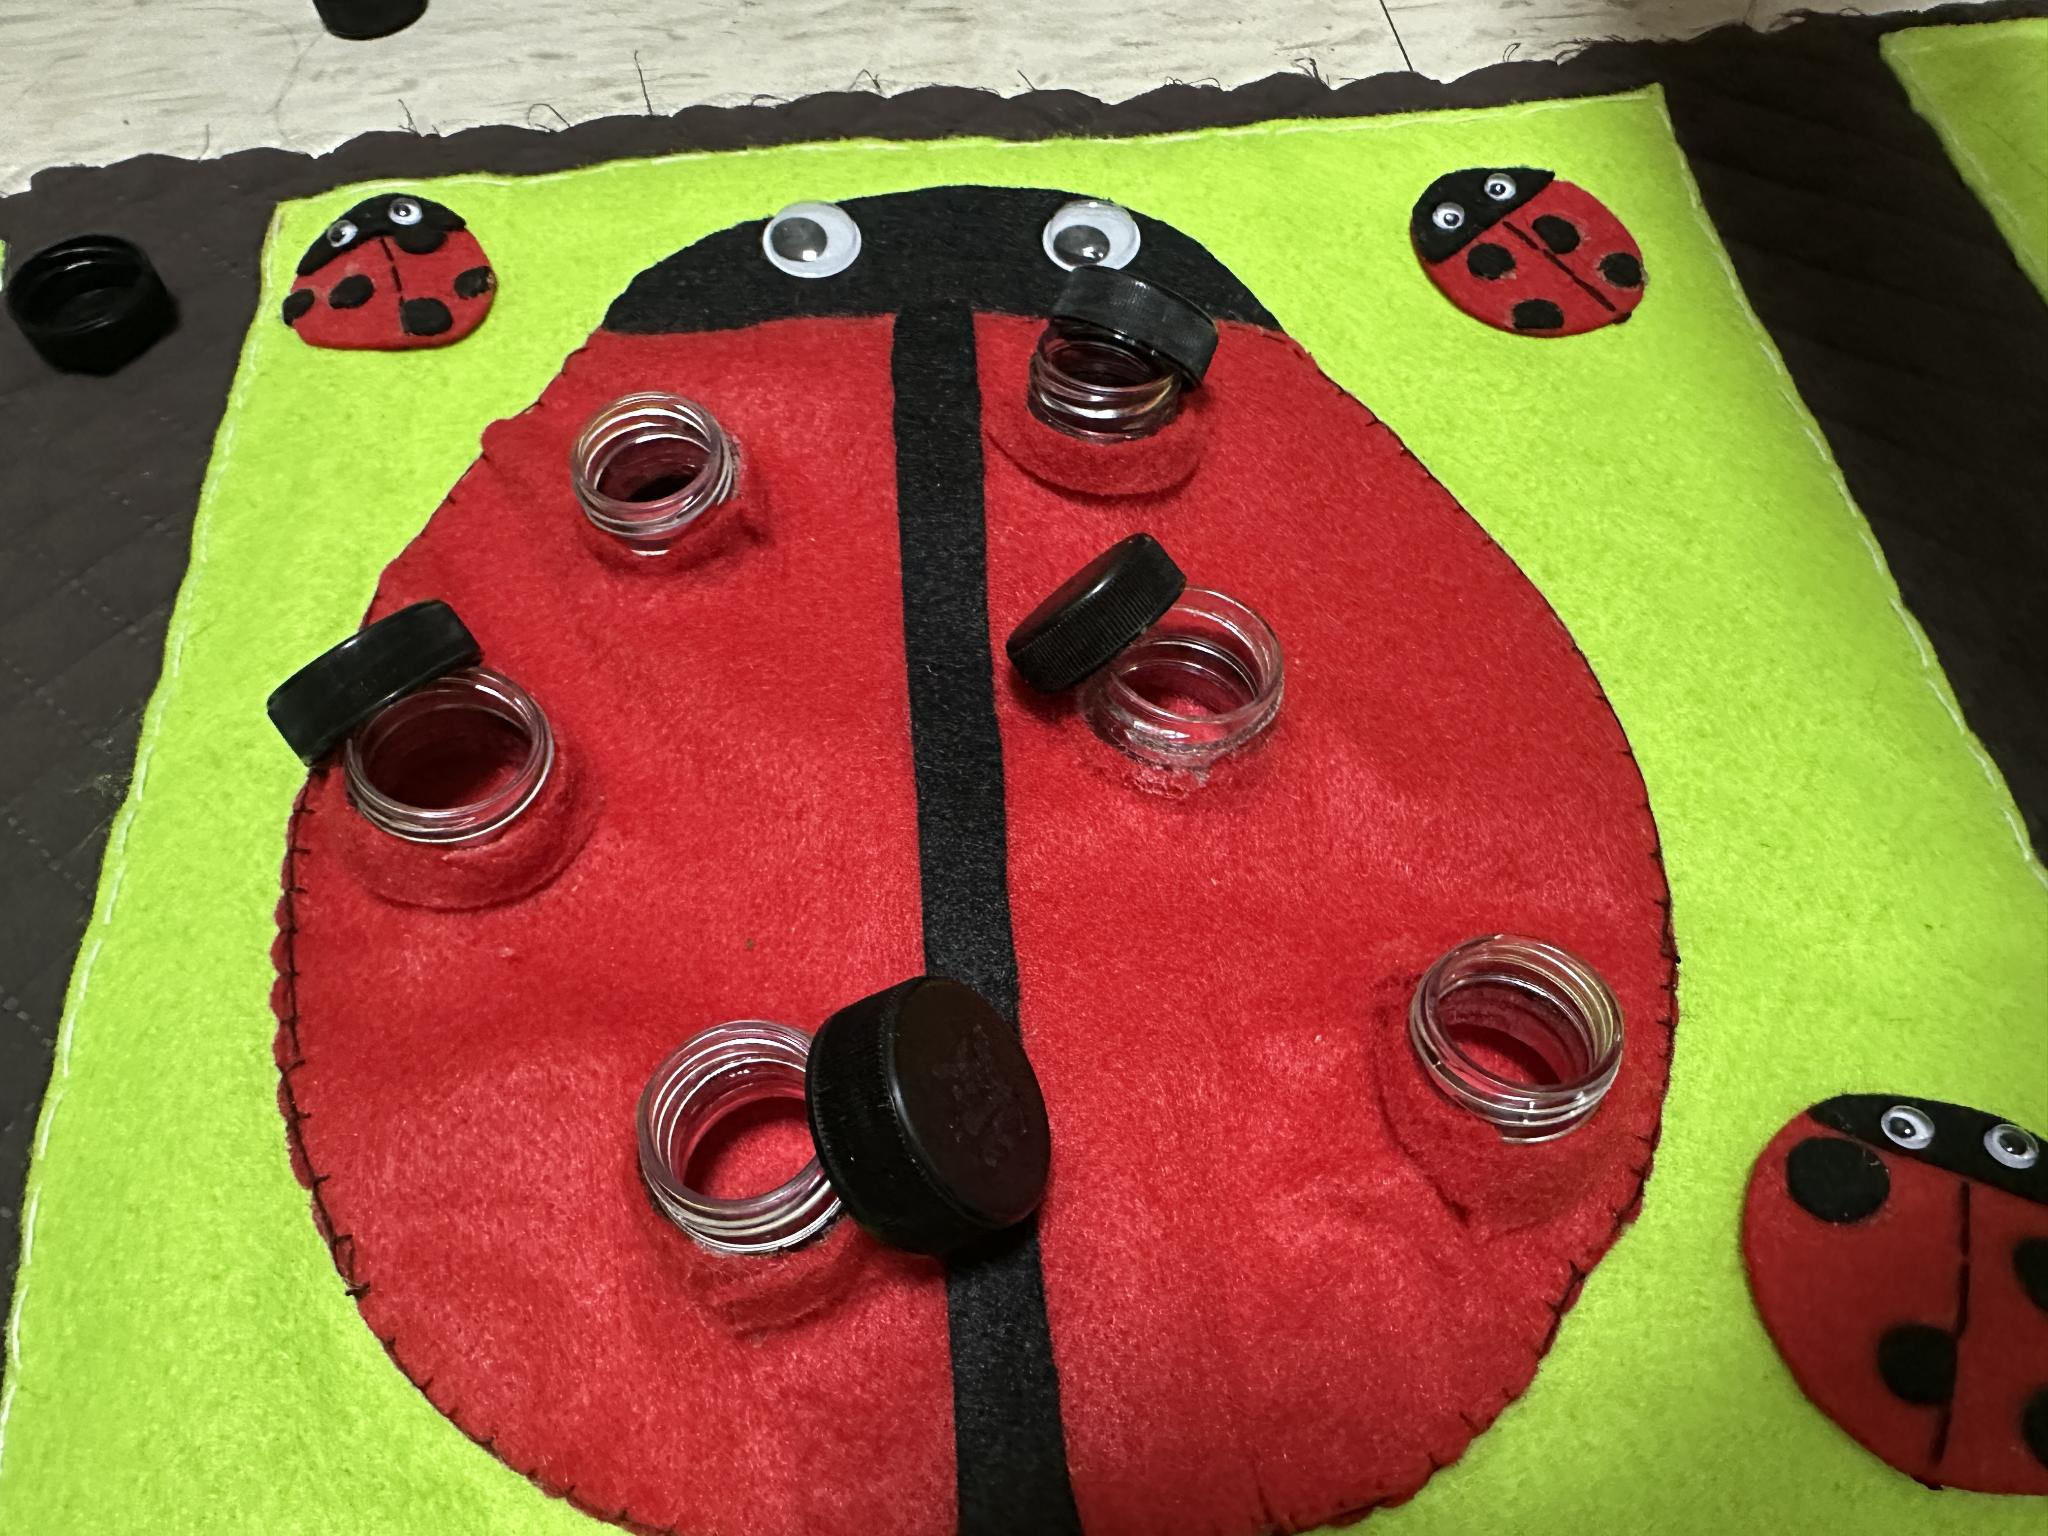cap_ng: (610, 963, 1095, 1312), (260, 589, 589, 918), (990, 529, 1317, 812), (1016, 252, 1229, 508)
